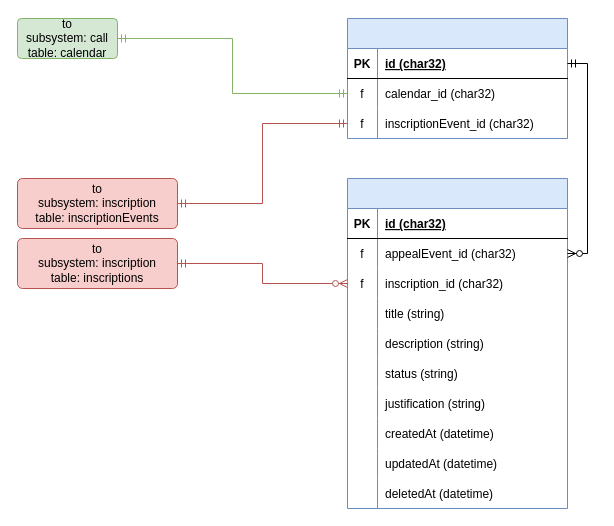
This 614x526 diagram has some shape labels left out. The box of each missing label's shape, as (x1, y1, x2, y2) in pixels:
AppealEvents: (346, 18, 568, 138)
Appeals: (346, 178, 568, 508)
